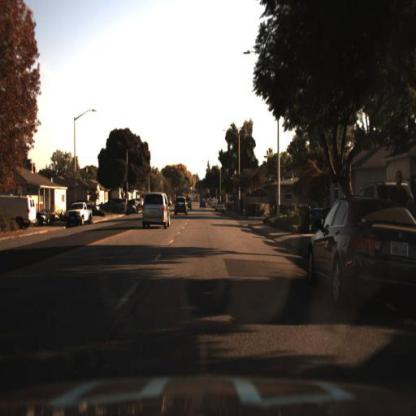car: (307, 195, 416, 315), (353, 172, 414, 215), (141, 187, 171, 233), (65, 197, 96, 235), (68, 201, 94, 230), (98, 193, 128, 217), (173, 193, 190, 219), (34, 209, 52, 230), (35, 209, 51, 230), (125, 196, 139, 217), (213, 197, 227, 216), (199, 199, 208, 208)
